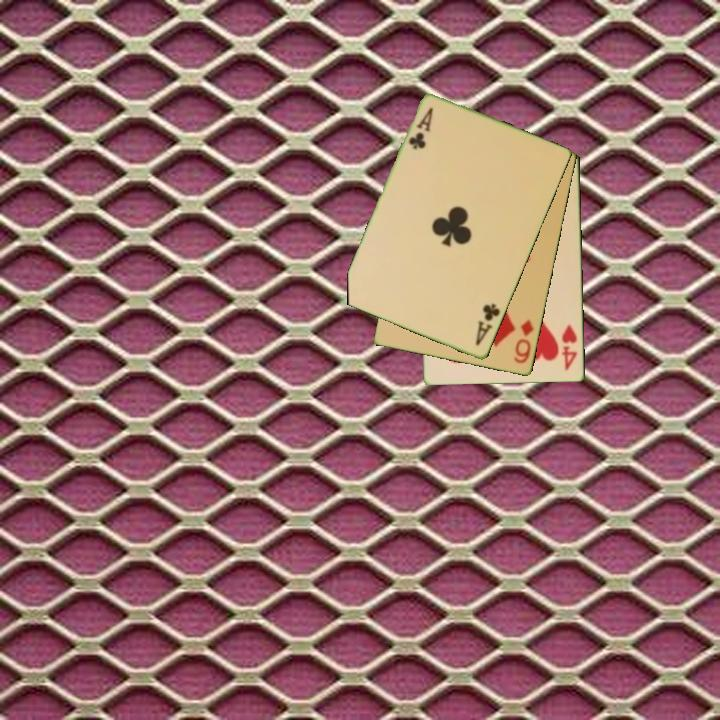4h: (558, 321, 580, 374)
6d: (511, 316, 537, 367)
Ac: (472, 300, 503, 349), (405, 104, 436, 153)
